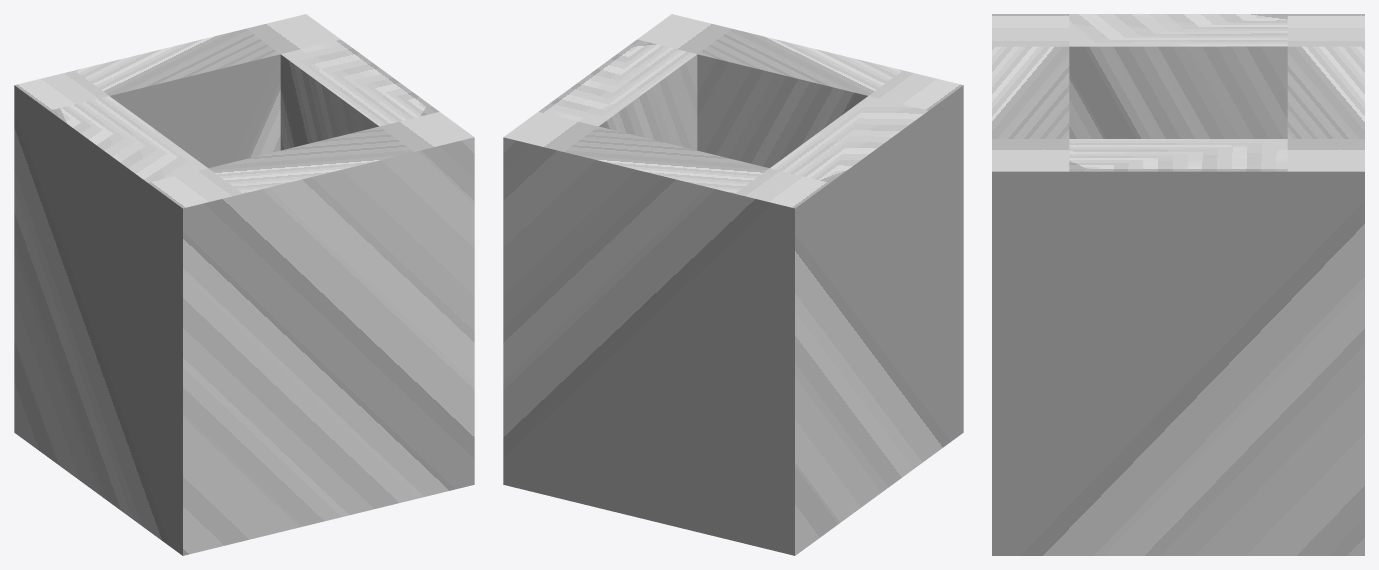
Rendered from connectortop.obj.
The picture shows the model from 3 angles, left to right: view 1: azimuth 30°, elevation 25°; view 2: azimuth 150°, elevation 25°; view 3: azimuth 270°, elevation 25°; orthographic projection. The views are drawn at different scales.
Visible parts, largest first — view 1: FluidConduit_Cube.022; view 2: FluidConduit_Cube.022; view 3: FluidConduit_Cube.022.
Boxes of the visible parts, <box> form: FluidConduit_Cube.022: <box>14,14,474,555</box>; FluidConduit_Cube.022: <box>503,14,963,555</box>; FluidConduit_Cube.022: <box>992,14,1364,555</box>.
Bounding box in the file's own units: 0.3625 × 0.4125 × 0.3625.
